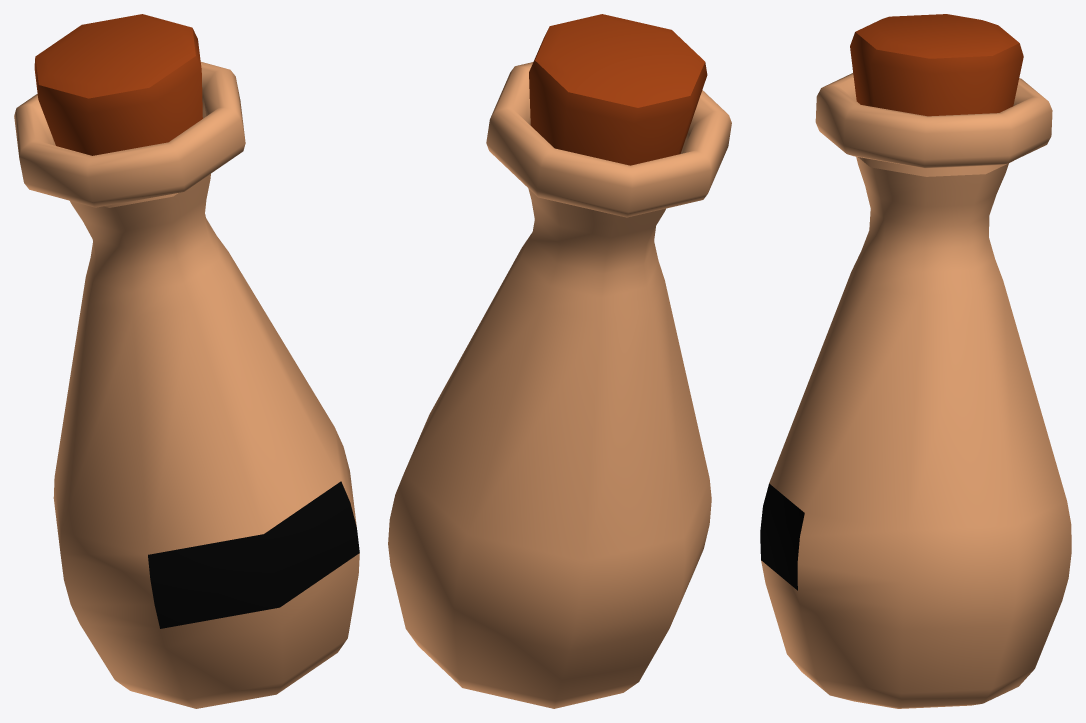
File: bottle.glb
3 views of the same model, side by side, from view 1: azimuth 30°, elevation 25°; view 2: azimuth 150°, elevation 25°; view 3: azimuth 270°, elevation 25° (orthographic). The views are drawn at different scales.
Parts seen in each view (by area): view 1: fiole; view 2: fiole; view 3: fiole.
Boxes of the visible parts, x1,y1,x2,y2 form: fiole: [14, 14, 359, 708]; fiole: [388, 14, 731, 708]; fiole: [760, 14, 1071, 708].
Size of the model in its own units: 2.11 by 4.18 by 1.87.
